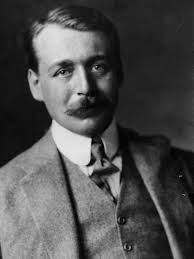middle_eastern_male: (25, 14, 125, 126)
